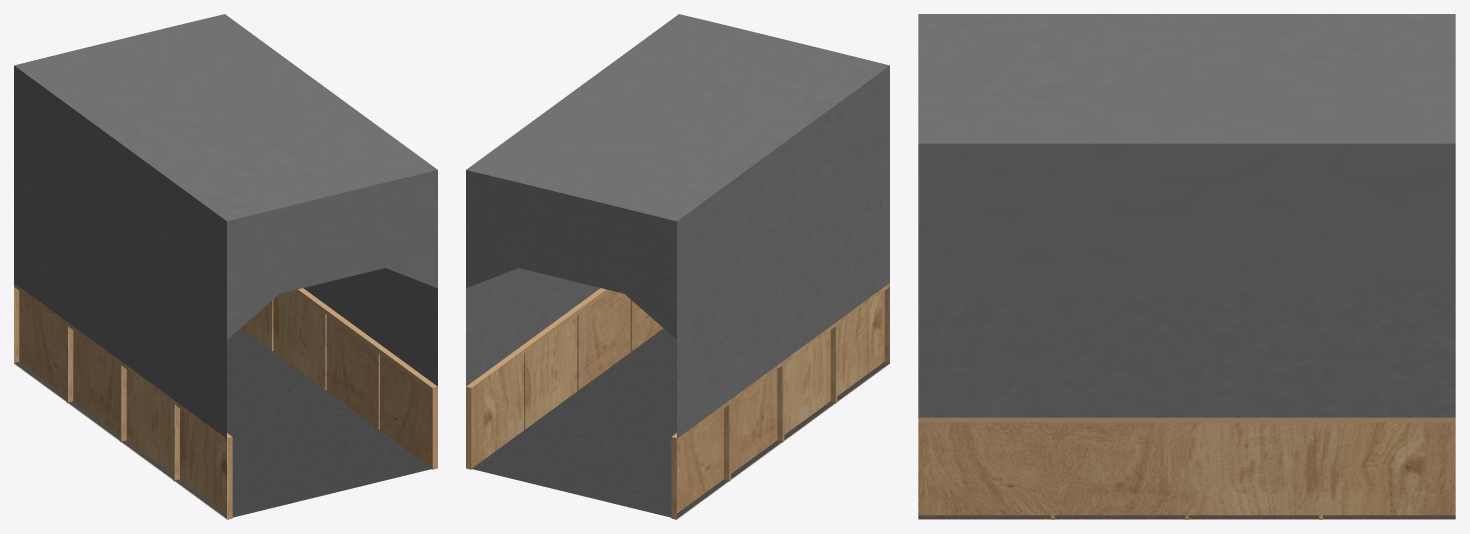
Rendered from InterimHallway2.glb.
3 renders of one model, left to right at view 1: azimuth 30°, elevation 25°; view 2: azimuth 150°, elevation 25°; view 3: azimuth 270°, elevation 25°, orthographic. The views are drawn at different scales.
Visible parts, largest first — view 1: Hallway.001; view 2: Hallway.001; view 3: Hallway.001.
Boxes of the visible parts, x1=… form: Hallway.001: x1=14, y1=14, x2=437, y2=519; Hallway.001: x1=466, y1=14, x2=889, y2=519; Hallway.001: x1=918, y1=14, x2=1455, y2=519.
Size of the model in its own units: 4 by 5.41 by 7.
Materials: 3 (3 with a texture image).
